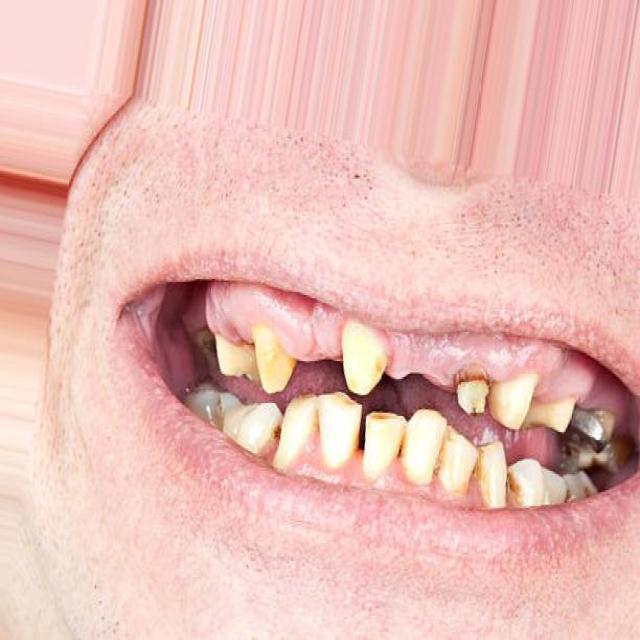caries: (442, 356, 497, 428), (568, 393, 616, 472), (462, 442, 488, 508), (496, 458, 524, 516), (266, 403, 288, 459)
